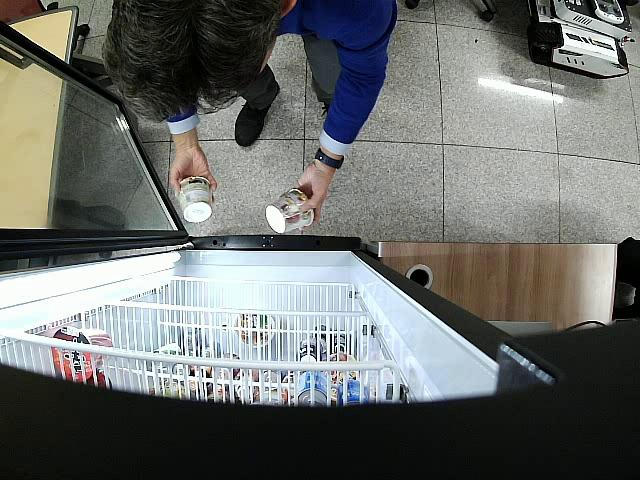00_hand: (292, 160, 335, 231), (170, 142, 217, 203)
04_chapagetti_S: (265, 188, 313, 234), (177, 177, 213, 223)
